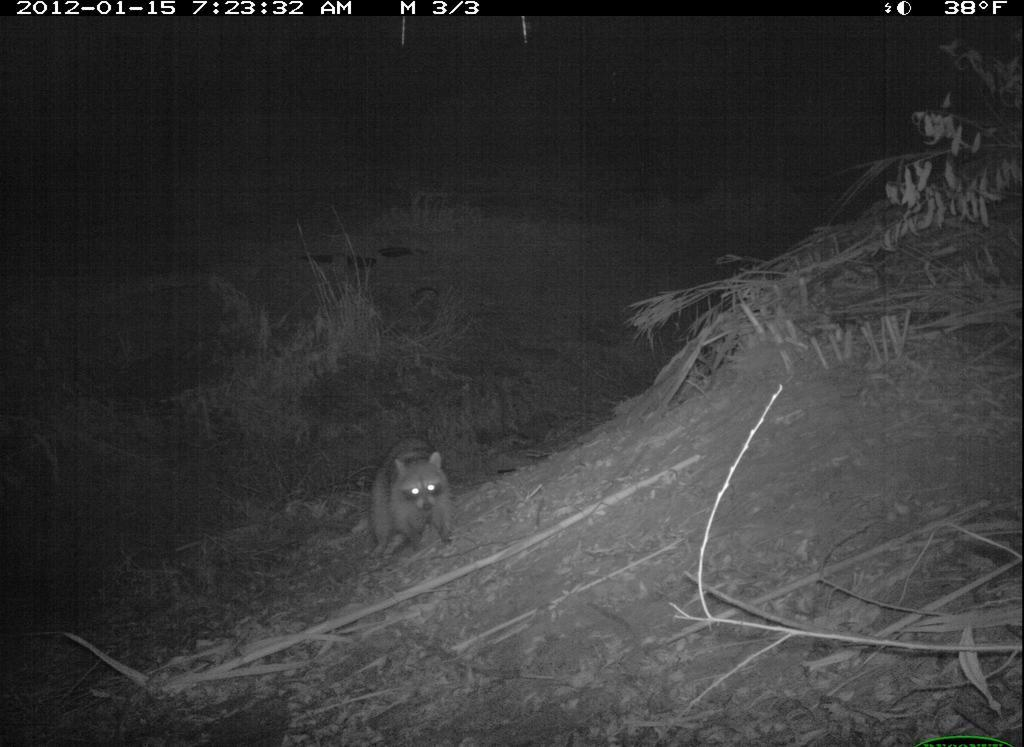raccoon: (363, 434, 475, 569)
